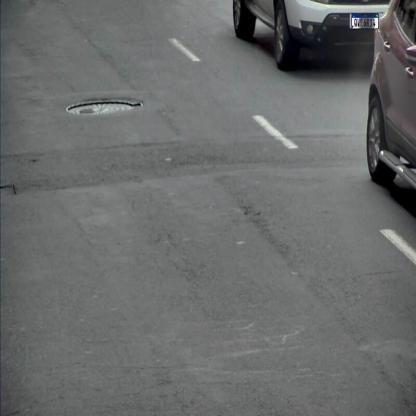PlacaM: (352, 13, 378, 29)
